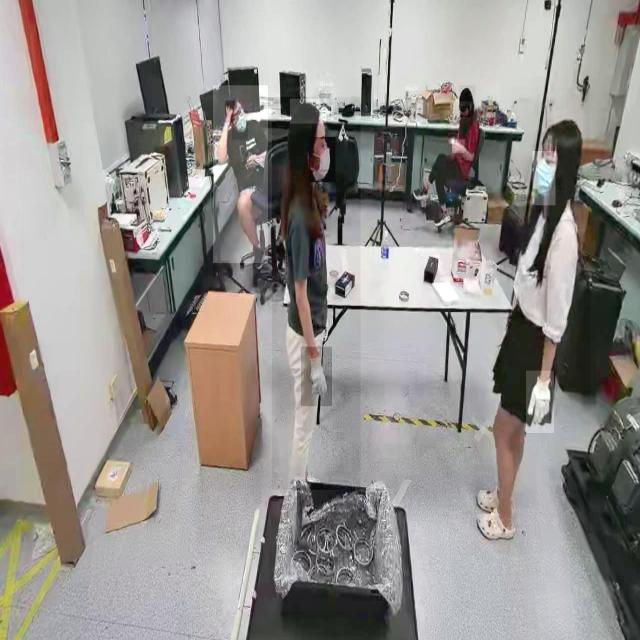face_mask: (532, 151, 556, 205), (309, 137, 335, 182), (232, 110, 248, 140)
face_nomask: (460, 106, 470, 118)
hand_glove: (300, 347, 332, 407), (526, 371, 554, 434)
hand_noglove: (245, 153, 260, 171), (225, 100, 235, 124), (452, 140, 464, 154)
head_nohelmet: (542, 114, 584, 143), (290, 98, 326, 125), (458, 86, 476, 102), (222, 90, 242, 102)
person: (470, 87, 590, 555), (272, 97, 361, 491), (212, 85, 268, 264)
shoes: (433, 206, 452, 231), (412, 182, 431, 203)
